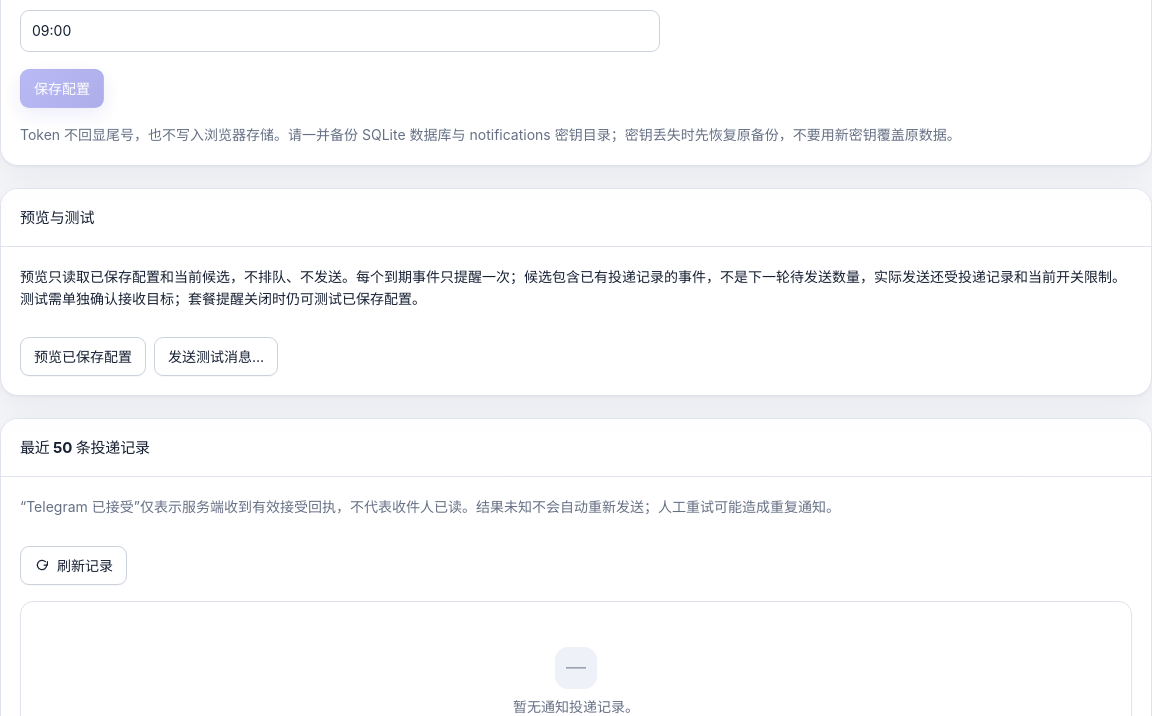
it: administrator notification workflows › labels eligible candidates as a window, not a pending-send count or new delivery promise
The image size is (1152, 716).
(page scrolled)
Click the button named "预览已保存通知配置".
click(83, 357)  # box [20, 337, 146, 376]
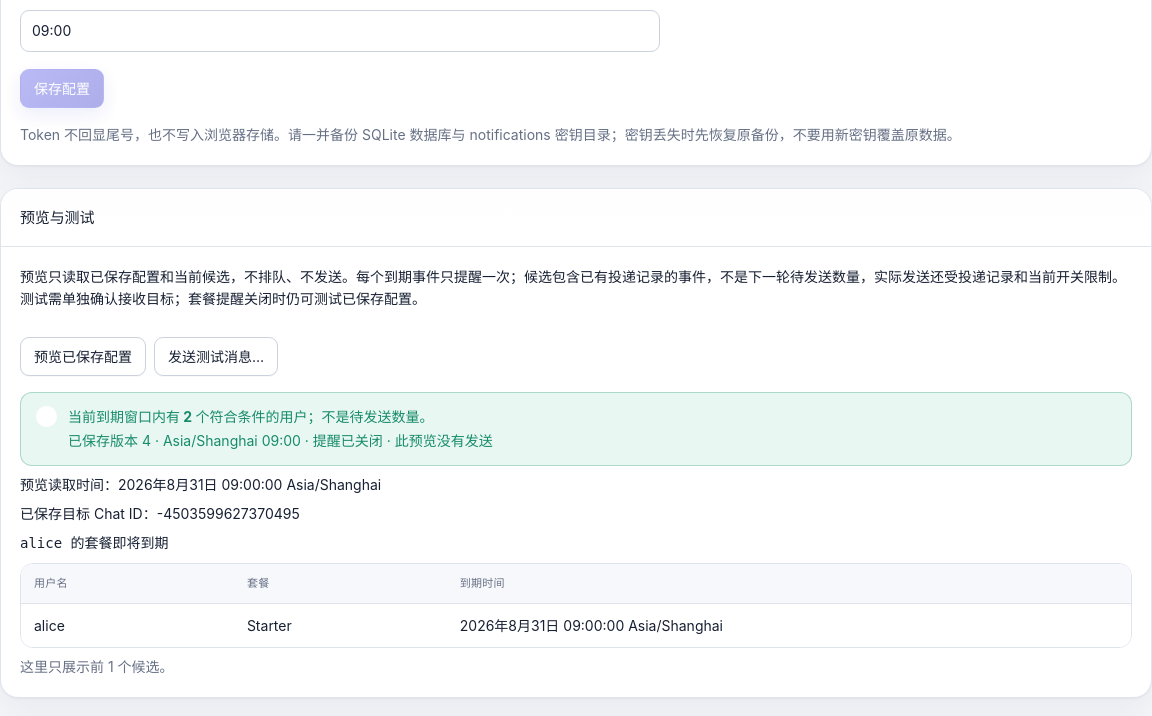
Expected: the text "候选包含已有投递记录的事件" is shown, [20, 268, 1126, 306]
Result: the text "当前到期窗口内有 2 个符合条件的用户；不是待发送数量。" is shown at [68, 408, 434, 425]
Result: the text "这里只展示前 1 个候选。" is shown at [20, 658, 174, 675]
